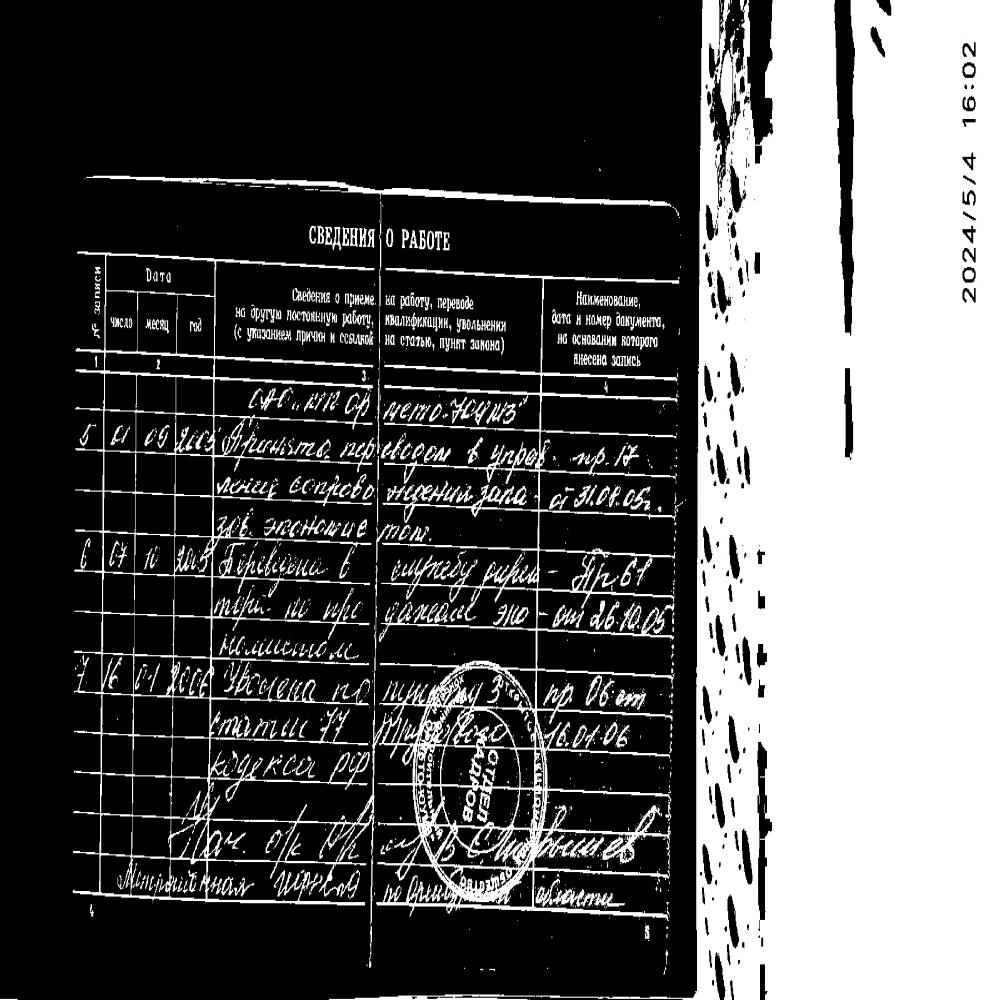rus: (120, 855, 364, 901), (218, 668, 417, 706), (70, 409, 216, 457), (76, 536, 212, 582), (209, 702, 360, 743), (542, 468, 656, 522), (212, 620, 366, 659), (74, 652, 210, 695), (210, 549, 354, 588), (544, 673, 652, 720), (548, 552, 656, 594), (547, 598, 676, 633), (468, 414, 544, 473), (388, 477, 528, 509), (247, 385, 371, 419), (220, 425, 335, 459), (383, 399, 521, 427), (338, 434, 456, 464), (380, 595, 480, 630), (552, 436, 643, 473), (307, 213, 377, 260), (283, 584, 369, 622), (393, 548, 477, 582), (291, 468, 376, 500), (265, 515, 370, 538), (216, 473, 284, 506), (215, 586, 271, 626), (485, 549, 542, 587), (214, 502, 257, 546), (386, 224, 449, 254), (288, 275, 335, 309), (575, 287, 641, 310), (379, 518, 435, 542), (234, 322, 292, 344), (138, 264, 191, 288), (383, 310, 451, 328), (286, 302, 338, 325), (455, 314, 507, 336), (493, 595, 527, 627), (613, 313, 669, 331), (397, 286, 434, 312), (437, 289, 475, 313), (621, 330, 659, 353), (574, 332, 616, 351), (250, 302, 284, 324), (339, 307, 373, 328), (470, 335, 502, 357), (584, 309, 614, 332), (435, 331, 467, 352), (548, 303, 572, 330), (294, 327, 328, 345), (574, 350, 610, 367), (339, 330, 371, 348), (400, 331, 431, 349), (612, 352, 646, 368), (344, 291, 377, 306), (383, 288, 398, 309), (559, 328, 572, 349), (234, 302, 248, 321), (381, 332, 398, 345)
